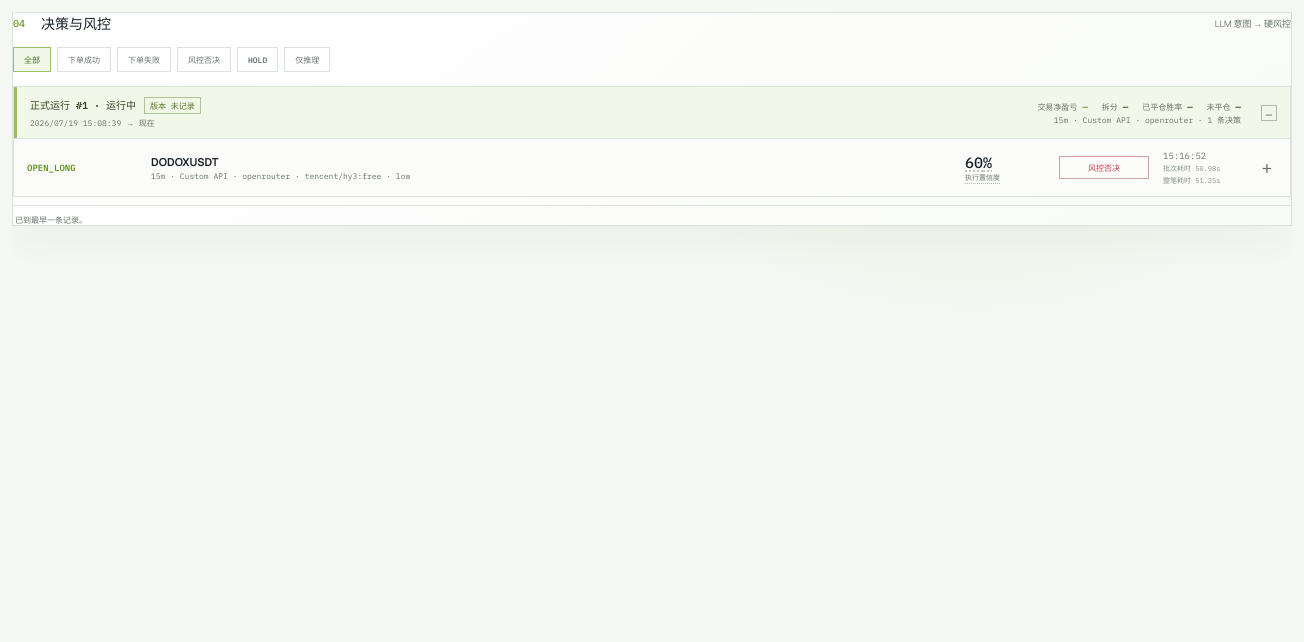
Test: DecisionPanel › keeps meaningful precision for low-priced decision levels
Click the button "OPEN_LONG" at (51, 168), box [14,139,1290,196]
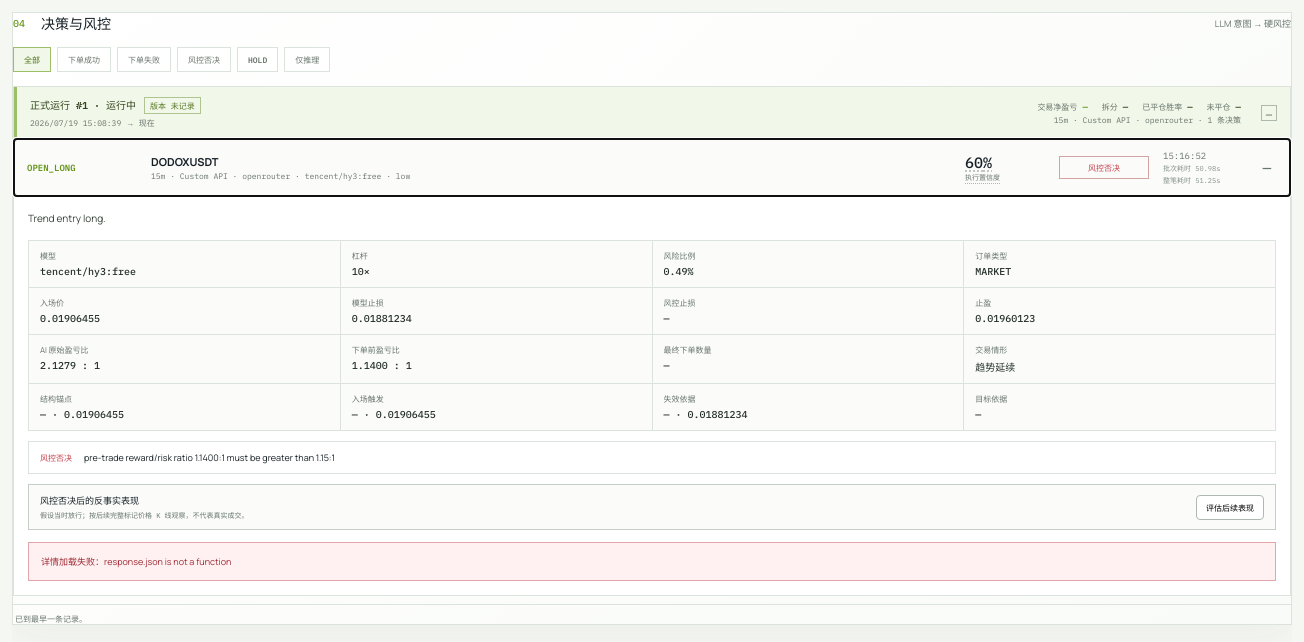
Expected: the text "0.01960123" is shown, [975,312,1035,325]
